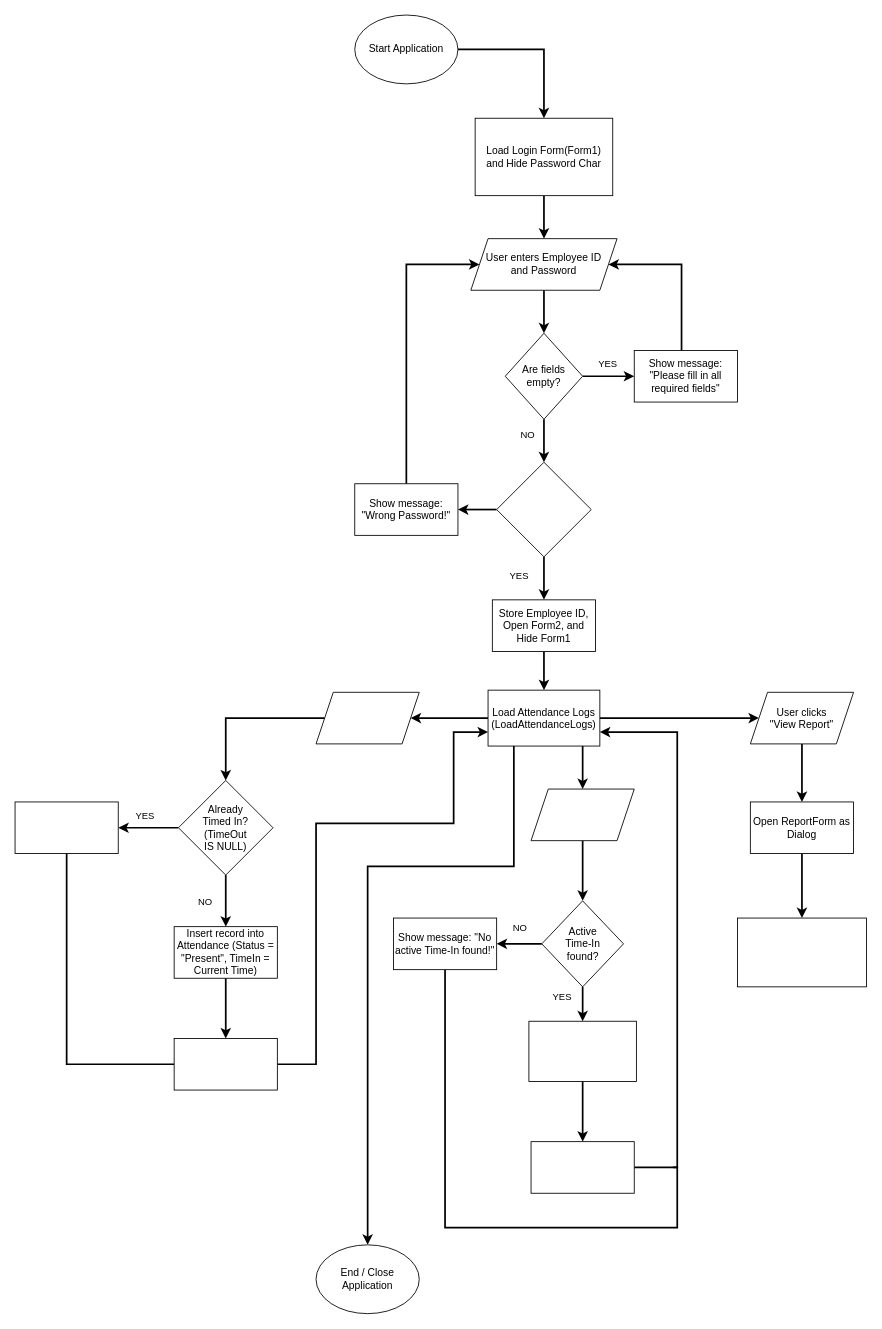
The diagram is 882 pixels wide and 1329 high, and some of its shapes have lost their labels. Each missing label, with the centre of its shape:
Fetch data via AttendanceTableAdapter & refresh ReportViewer: pixel 801 952
Is Password = "admin"?: pixel 543 509
Show message: "Already Timed In!": pixel 66 827
Show message: "Time-In Successful!": pixel 225 1064
Show message: "Time-Out Successful!": pixel 582 1167
Update record in Attendance (Set TimeOut = Current Time): pixel 582 1050
User clicks "Time In": pixel 367 717
User clicks "Time Out": pixel 582 814
